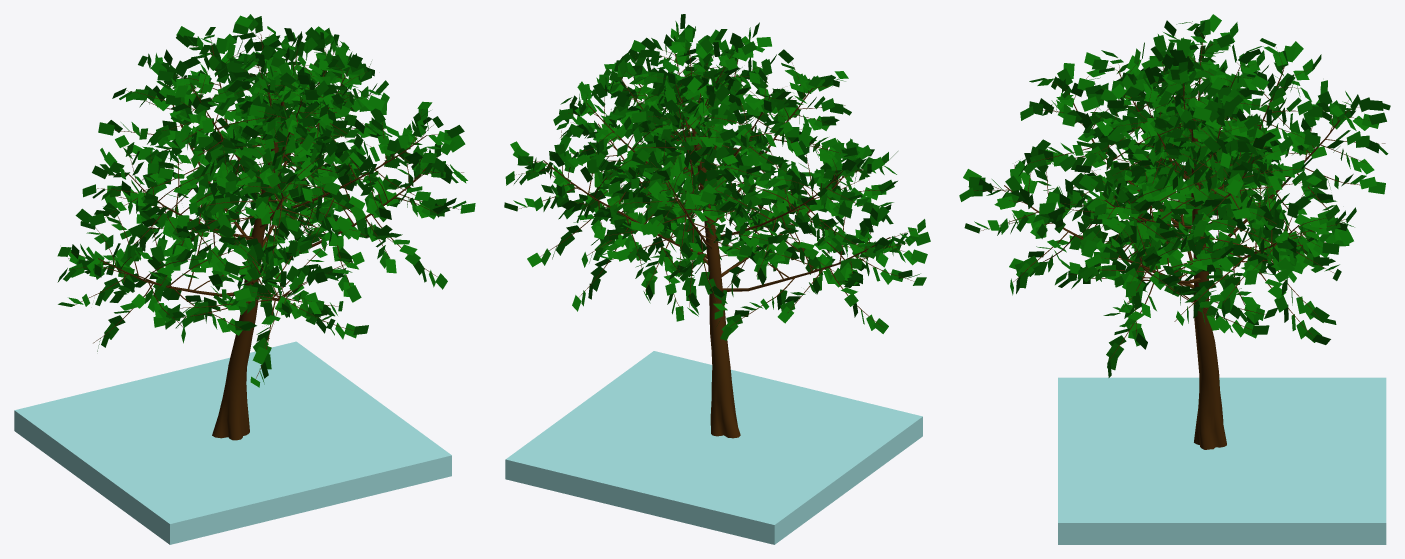
The model's file is arbol.DAE.
The picture shows the model from 3 angles, left to right: view 1: azimuth 30°, elevation 25°; view 2: azimuth 150°, elevation 25°; view 3: azimuth 270°, elevation 25°; orthographic projection. The views are drawn at different scales.
Parts seen in each view (by area): view 1: Foliage01, Box001; view 2: Foliage01, Box001; view 3: Foliage01, Box001.
Boxes of the visible parts, left/top/right/bottom form: Foliage01: left=57, top=14, right=475, bottom=440; Box001: left=14, top=341, right=451, bottom=544; Foliage01: left=504, top=14, right=930, bottom=438; Box001: left=505, top=351, right=922, bottom=544; Foliage01: left=959, top=14, right=1390, bottom=449; Box001: left=1058, top=377, right=1386, bottom=544.
Bounding box in the file's own units: 183 × 164 × 190.
